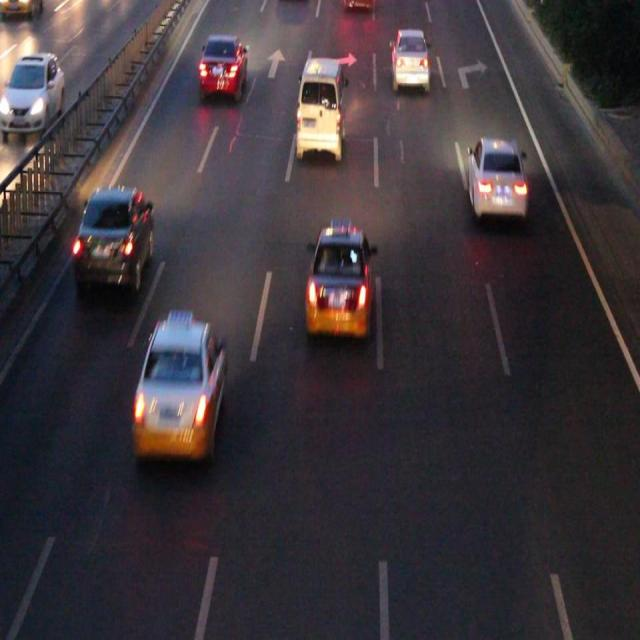car: (133, 319, 226, 456), (73, 187, 153, 286), (306, 228, 372, 335), (466, 140, 525, 217), (199, 38, 246, 96), (390, 31, 427, 88)
truck: (296, 60, 344, 156)
